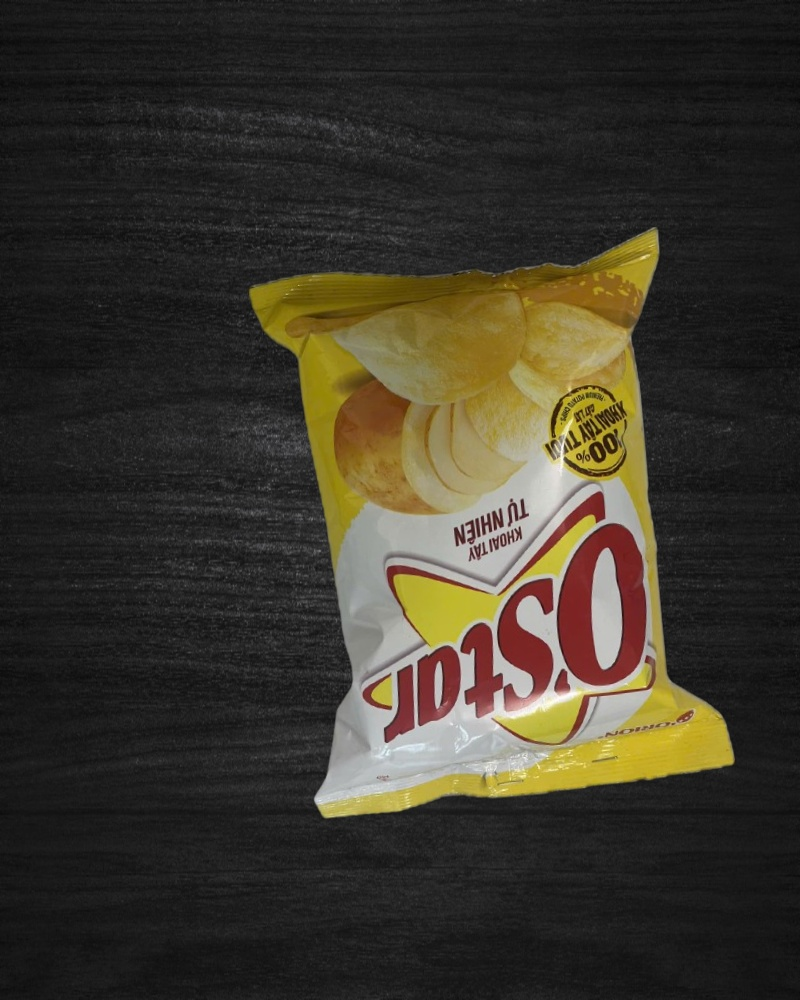Snack cua: (252, 231, 735, 815)
